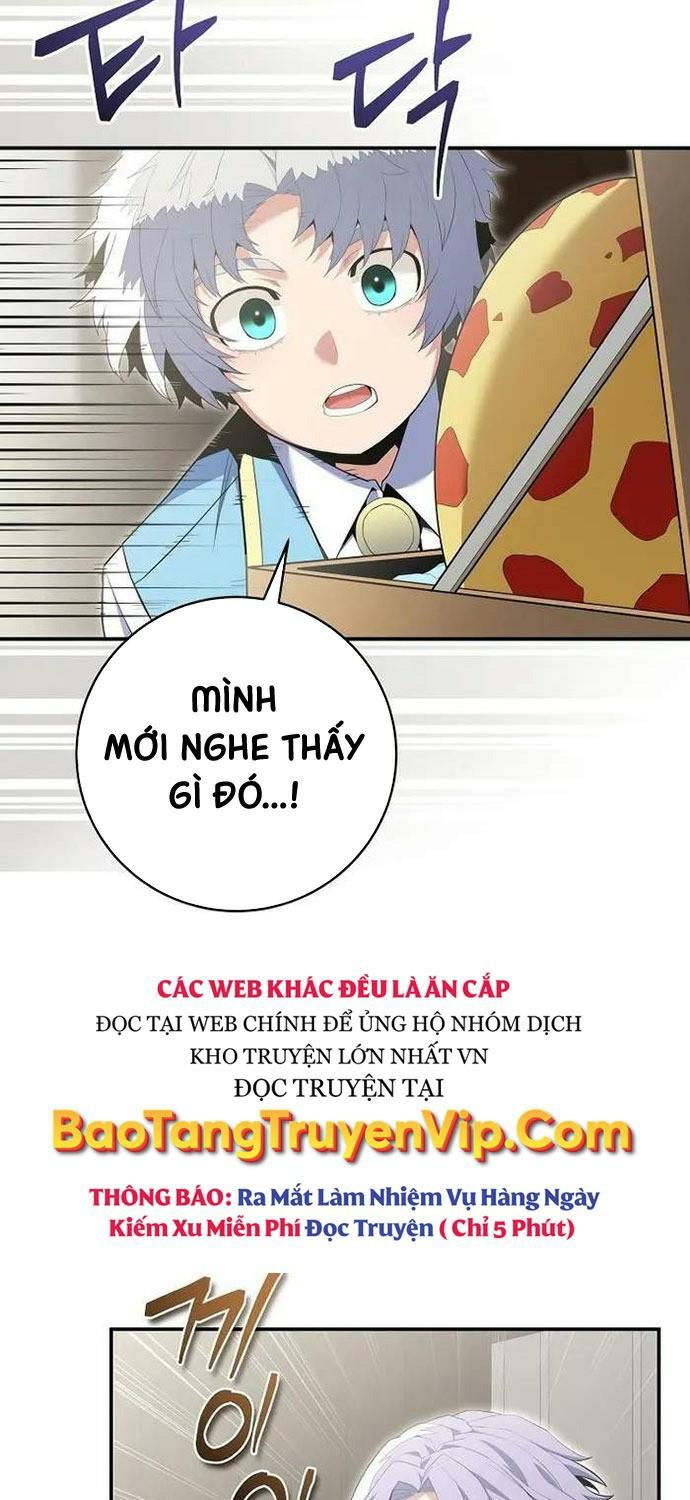quangcao: (46, 968, 644, 1246)
